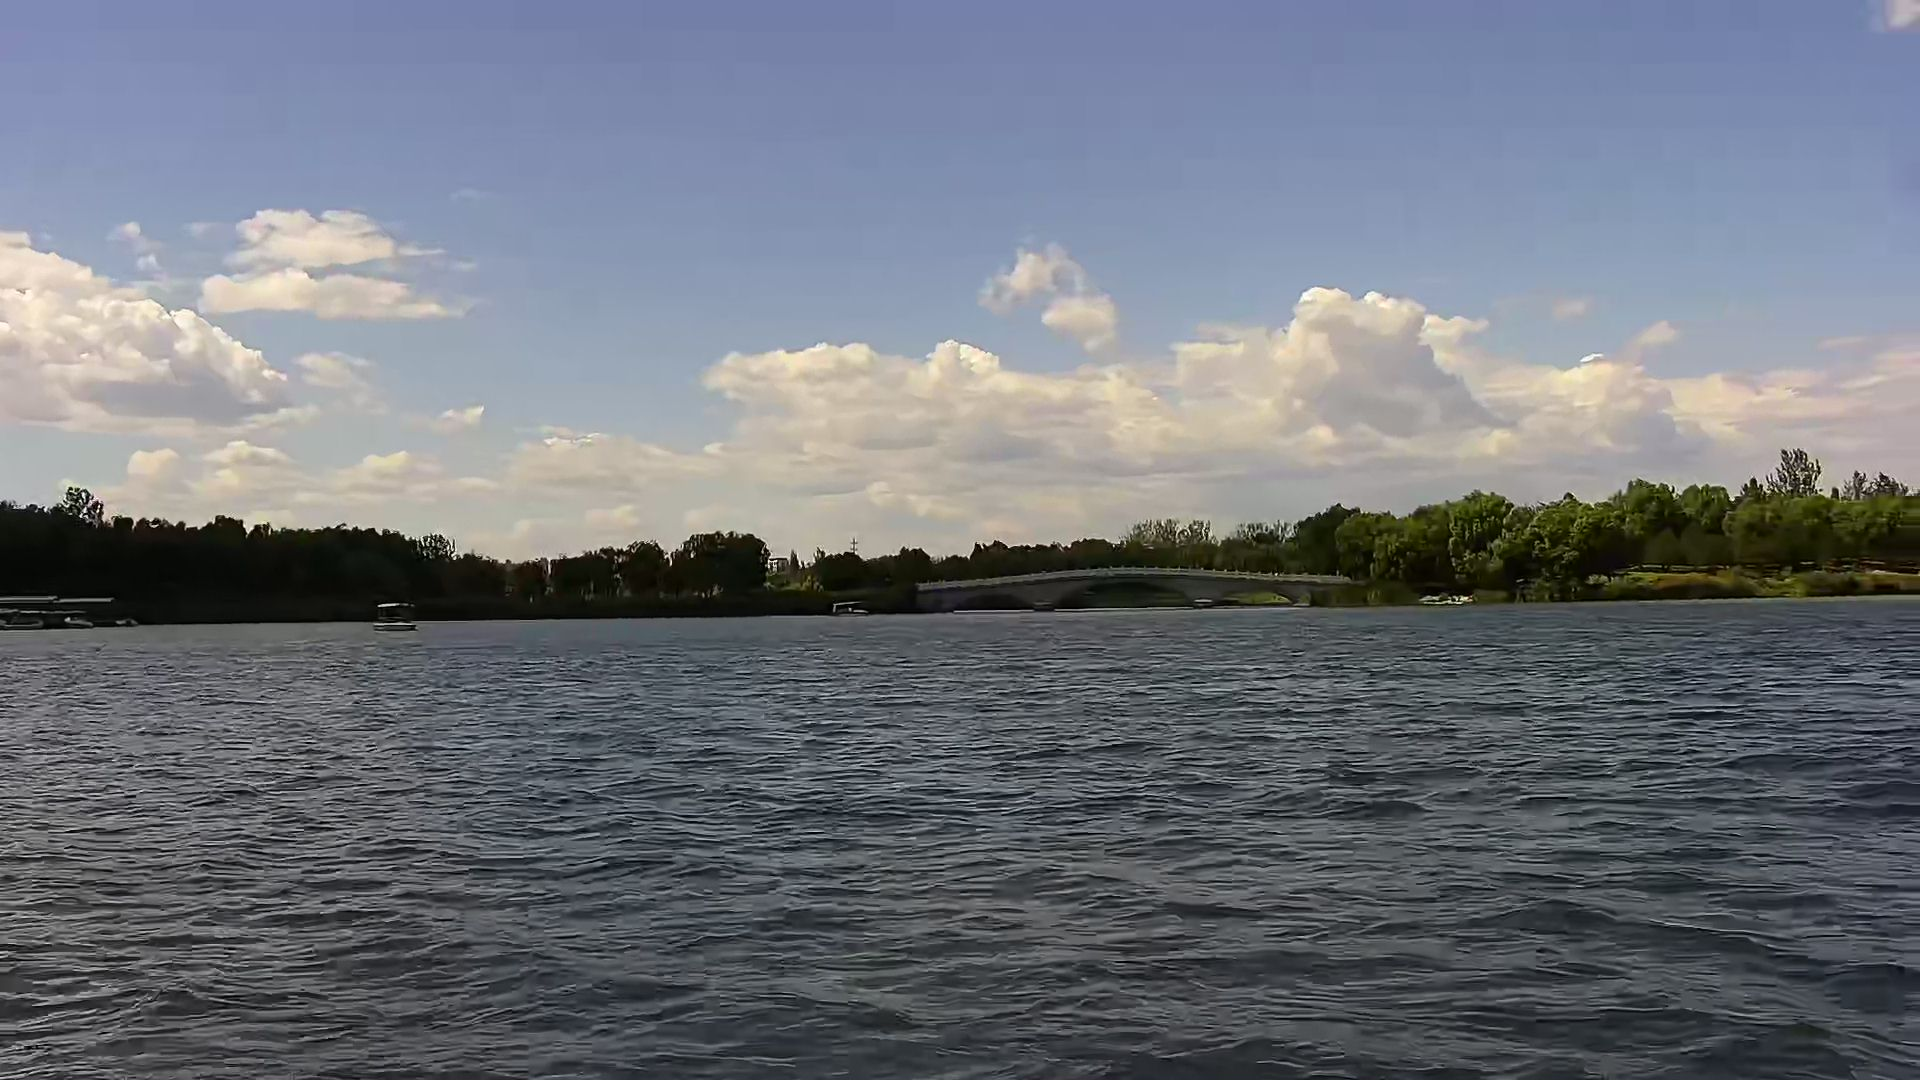boat: (371, 595, 419, 636)
bridge: (916, 559, 1357, 616)
harbor: (1, 589, 142, 632)
